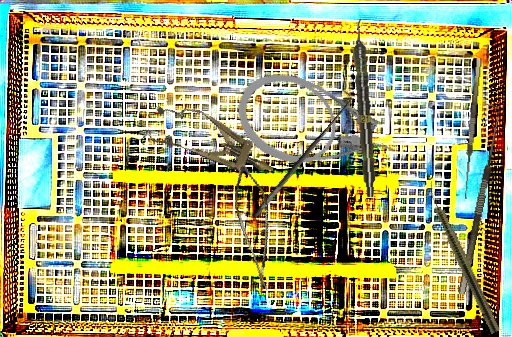Cannula: (224, 58, 405, 201)
Handpiece: (421, 180, 503, 335), (350, 18, 379, 198)
Hook Surgical: (243, 86, 360, 220), (448, 104, 505, 295), (461, 57, 490, 201)
Micro Scissor: (215, 160, 298, 295)
Speculum: (142, 93, 283, 193)
